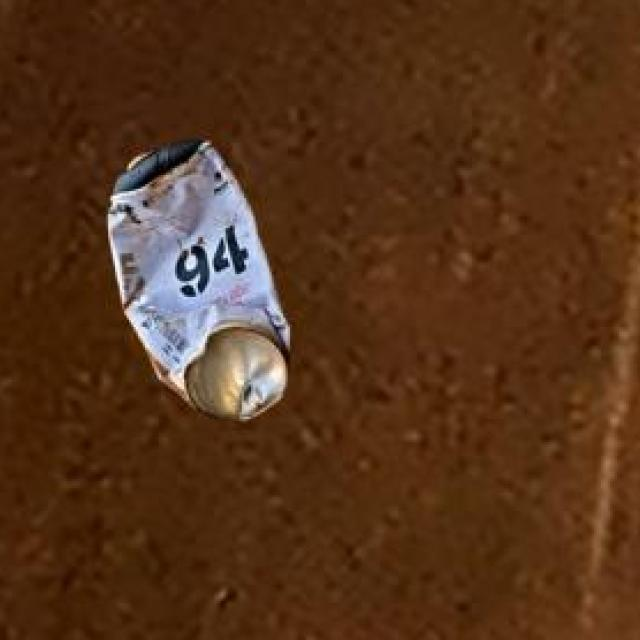logam: (105, 137, 287, 418)
